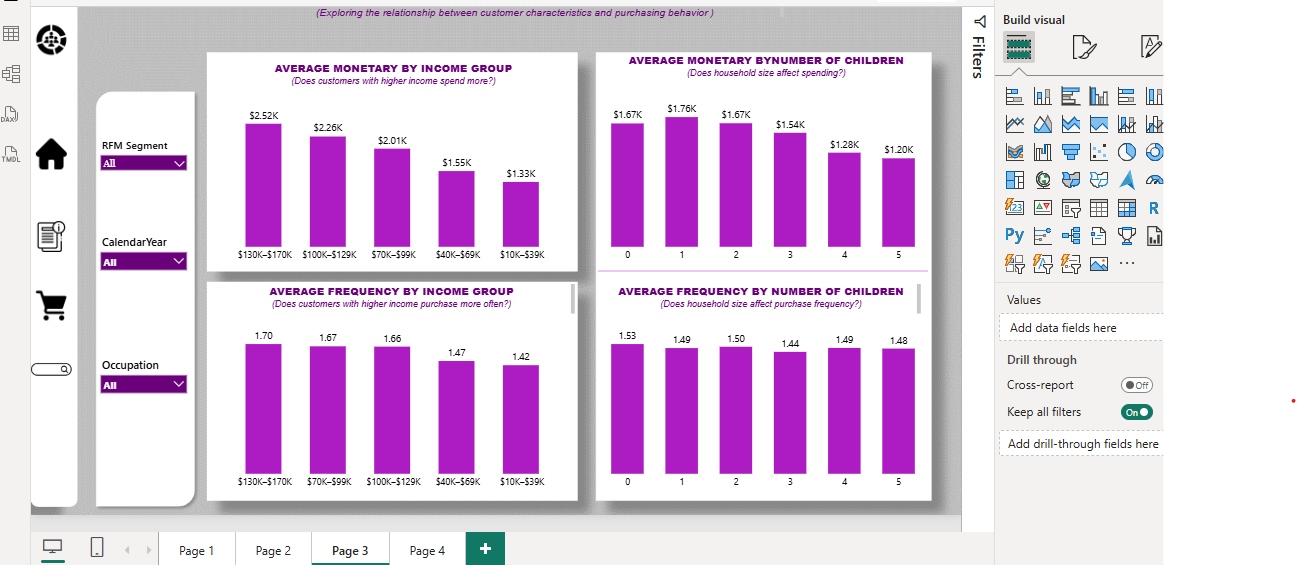

What the dashboard file says about the page in this screenshot:
{"tool":"powerbi","page":{"name":"Page 3","canvas":[1920,1080],"ordinal":2},"visuals":[{"type":"textbox","box":[452.1,0,1102.5,64],"z":0},{"type":"clusteredColumnChart","fields":{"Category":["DimCustomer.Income Group"],"Y":["Avg(DimCustomer.Monetary)"]},"box":[373.7,202.3,749.4,375.7],"z":1000},{"type":"textbox","box":[373.7,144.5,749.4,57.8],"z":2000},{"type":"clusteredColumnChart","fields":{"Category":["DimCustomer.Income Group"],"Y":["Avg(DimCustomer.Frequency)"]},"box":[373.7,671,749.4,375.7],"z":3000},{"type":"textbox","box":[373.7,604.9,749.4,66.1],"z":4000},{"type":"clusteredColumnChart","fields":{"Category":["DimCustomer.TotalChildren"],"Y":["Avg(DimCustomer.Monetary)"]},"box":[1170.6,202.3,681.3,375.7],"z":5000},{"type":"textbox","box":[1185,128,666.8,88.8],"z":6000},{"type":"clusteredColumnChart","fields":{"Category":["DimCustomer.TotalChildren"],"Y":["Avg(DimCustomer.Frequency)"]},"box":[1170.6,671,681.3,375.7],"z":7000},{"type":"textbox","box":[1185,604.9,652.4,66.1],"z":8000},{"type":"shape","box":[1170.6,565.7,681.3,24.8],"z":9000},{"type":"slicer","fields":{"Values":["DimDate.CalendarYear"]},"box":[137.3,502,188.8,103],"z":10000},{"type":"slicer","fields":{"Values":["DimCustomer.RFM Segment"]},"box":[137.3,302.5,188.8,88],"z":11000},{"type":"slicer","fields":{"Values":["DimCustomer.EnglishOccupation"]},"box":[137.3,755.1,188.8,103],"z":12000},{"type":"image","box":[0,613.5,83.7,70.8],"z":13000},{"type":"image","box":[0,59.9,84.6,82.6],"z":14000},{"type":"image","box":[0,299.4,84.6,74.3],"z":15000},{"type":"image","box":[0,472.8,84.6,68.1],"z":16000},{"type":"image","box":[0,740.1,83.7,83.7],"z":17000}]}

Visuals, with their boxes on the page's 1920x1080 design canvas (x1, y1, x2, y2). These are canvas units, not pixel positions in the 1297x565 screenshot, which may show the page scaled, cropped or inside an application window:
textbox: {"x1": 452, "y1": 0, "x2": 1555, "y2": 64}
clusteredColumnChart - DimCustomer.Income Group x Avg(DimCustomer.Monetary): {"x1": 374, "y1": 202, "x2": 1123, "y2": 578}
textbox: {"x1": 374, "y1": 144, "x2": 1123, "y2": 202}
clusteredColumnChart - DimCustomer.Income Group x Avg(DimCustomer.Frequency): {"x1": 374, "y1": 671, "x2": 1123, "y2": 1047}
textbox: {"x1": 374, "y1": 605, "x2": 1123, "y2": 671}
clusteredColumnChart - DimCustomer.TotalChildren x Avg(DimCustomer.Monetary): {"x1": 1171, "y1": 202, "x2": 1852, "y2": 578}
textbox: {"x1": 1185, "y1": 128, "x2": 1852, "y2": 217}
clusteredColumnChart - DimCustomer.TotalChildren x Avg(DimCustomer.Frequency): {"x1": 1171, "y1": 671, "x2": 1852, "y2": 1047}
textbox: {"x1": 1185, "y1": 605, "x2": 1837, "y2": 671}
shape: {"x1": 1171, "y1": 566, "x2": 1852, "y2": 590}
slicer - DimDate.CalendarYear: {"x1": 137, "y1": 502, "x2": 326, "y2": 605}
slicer - DimCustomer.RFM Segment: {"x1": 137, "y1": 302, "x2": 326, "y2": 390}
slicer - DimCustomer.EnglishOccupation: {"x1": 137, "y1": 755, "x2": 326, "y2": 858}
image: {"x1": 0, "y1": 614, "x2": 84, "y2": 684}
image: {"x1": 0, "y1": 60, "x2": 85, "y2": 142}
image: {"x1": 0, "y1": 299, "x2": 85, "y2": 374}
image: {"x1": 0, "y1": 473, "x2": 85, "y2": 541}
image: {"x1": 0, "y1": 740, "x2": 84, "y2": 824}
